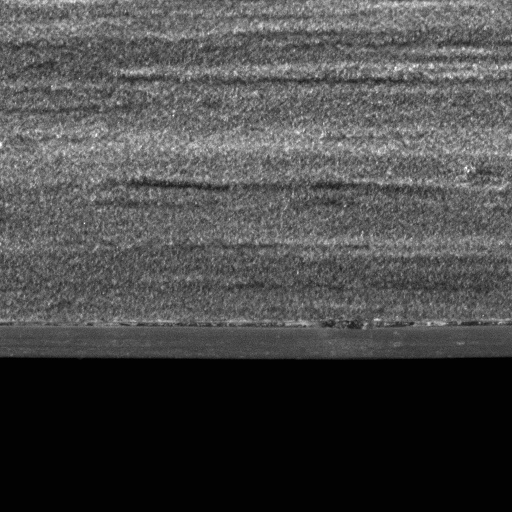jiaofeng: (117, 312, 288, 337), (311, 310, 418, 341), (439, 310, 511, 337)
